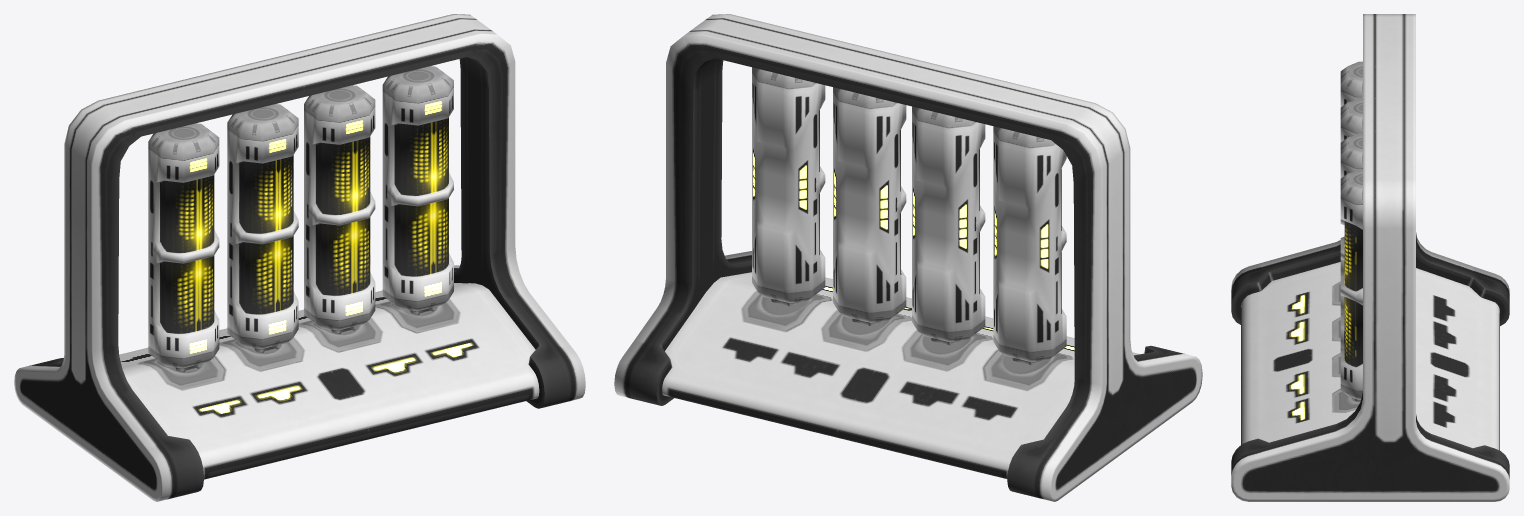
Rendered from LabTubes02_3.FBX.
The picture shows the model from 3 angles, left to right: view 1: azimuth 30°, elevation 25°; view 2: azimuth 150°, elevation 25°; view 3: azimuth 270°, elevation 25°; orthographic projection. The views are drawn at different scales.
Visible parts, largest first — view 1: LabTubes02_3; view 2: LabTubes02_3; view 3: LabTubes02_3.
Part boxes in pixels (left/top/right/bottom): LabTubes02_3: left=14, top=14, right=585, bottom=501; LabTubes02_3: left=614, top=14, right=1202, bottom=501; LabTubes02_3: left=1231, top=14, right=1509, bottom=501.
Size of what is drawn, in the model's own units: 0.6258 by 0.4619 by 0.3805.
